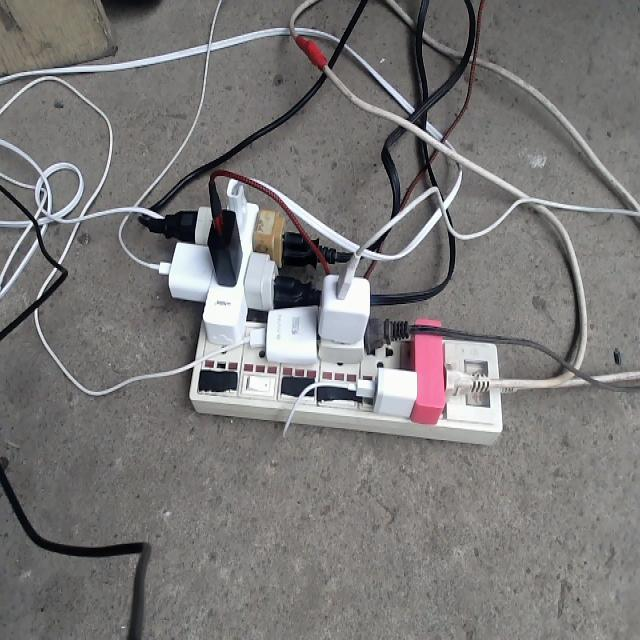-: (156, 181, 501, 447)
